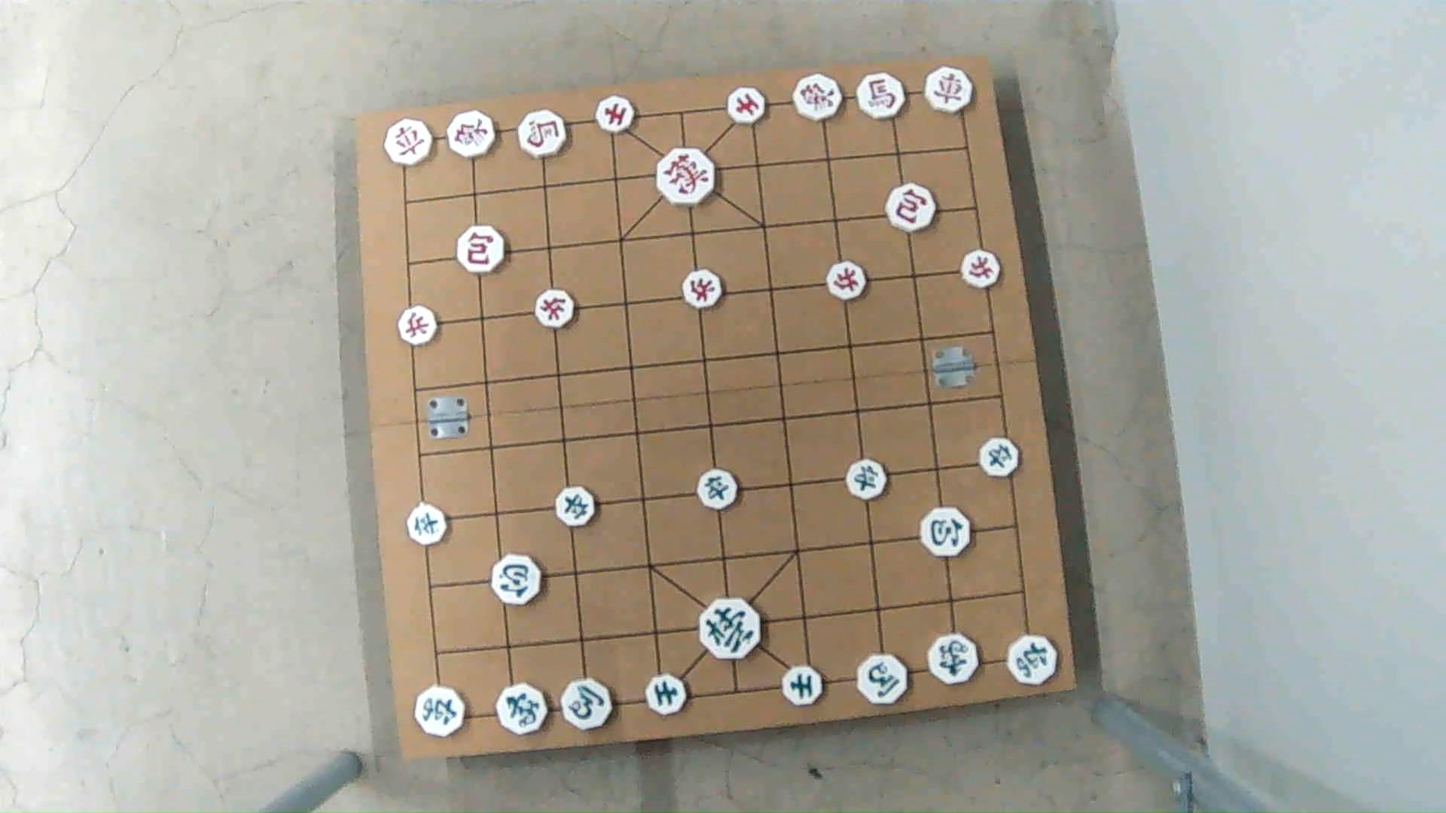cha_green: (412, 690, 468, 738), (1004, 635, 1059, 683)
cha_red: (924, 69, 978, 112), (386, 121, 439, 164)
jol_green: (975, 441, 1023, 477), (403, 505, 448, 542), (551, 489, 596, 526), (842, 462, 888, 497), (694, 471, 739, 506)
jol_red: (533, 291, 578, 327), (959, 254, 1005, 288), (824, 264, 867, 300), (679, 271, 721, 307), (396, 308, 438, 343)
ma_green: (856, 656, 910, 703), (557, 684, 612, 730)
ma_red: (519, 114, 572, 159), (853, 76, 906, 118)
po_green: (487, 559, 544, 604), (920, 512, 973, 557)
po_red: (886, 189, 939, 232), (454, 227, 505, 270)
sa_green: (782, 667, 827, 705), (642, 675, 685, 714)
sa_red: (597, 96, 639, 130), (722, 90, 766, 122)
sang_green: (495, 683, 549, 734), (924, 634, 980, 682)
sang_red: (791, 76, 844, 120), (446, 114, 499, 157)
wang_green: (697, 603, 761, 659)
wang_red: (655, 153, 715, 206)
